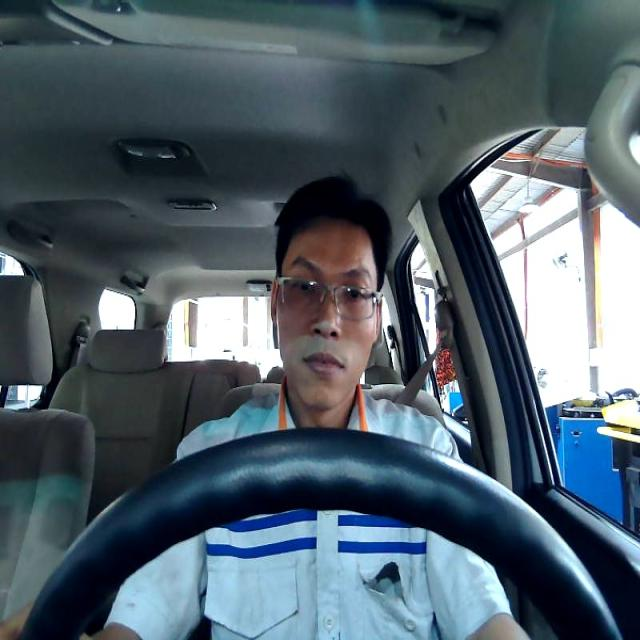focused: (268, 218, 382, 410)
